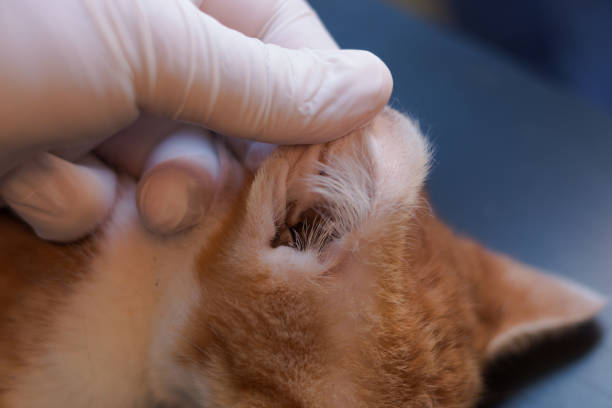tungau: (275, 199, 332, 250)
